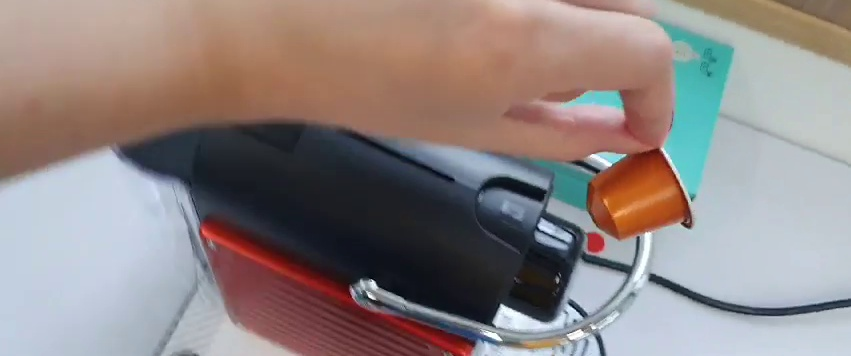capsule_5: (584, 138, 692, 245)
